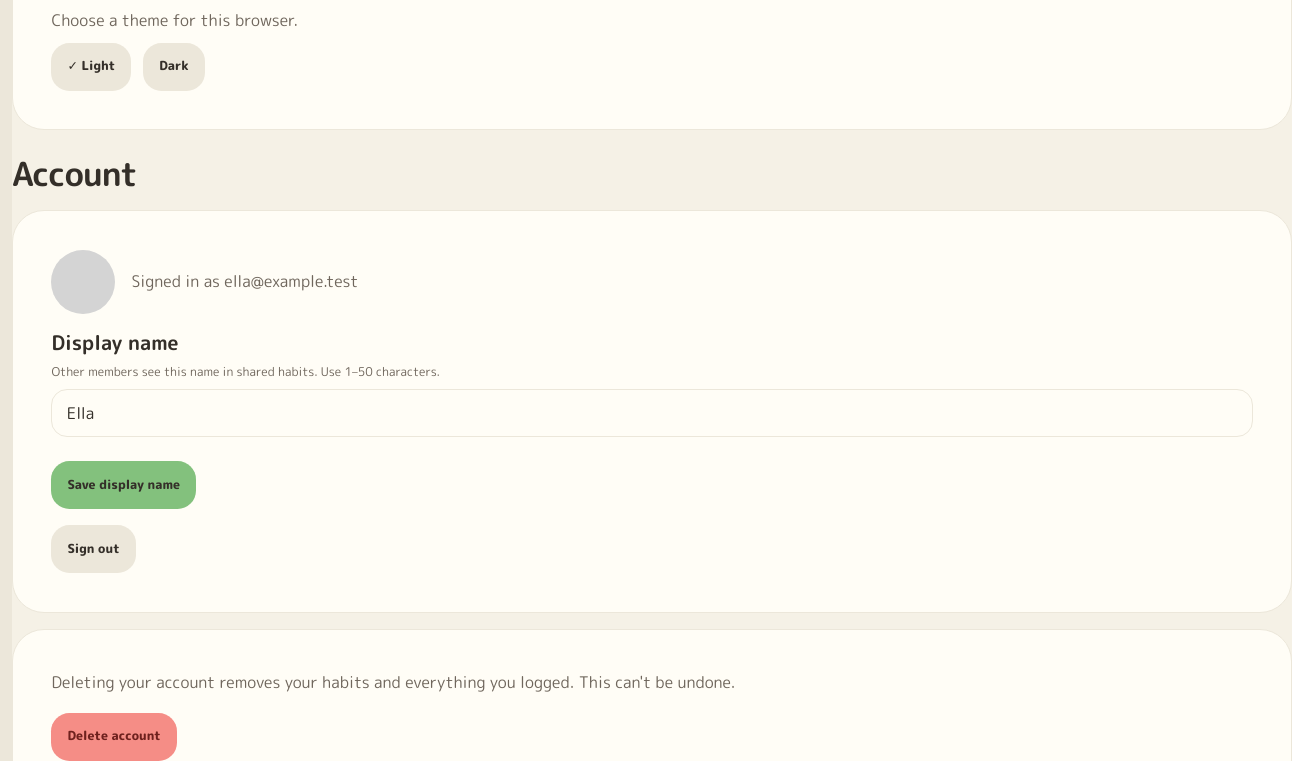
it: Settings display name (#259) › accepts the boundary-length name E
(page scrolled)
Replace the text in the field labelled "Display name" with "E" at (652, 413), box [51,389,1253,437]
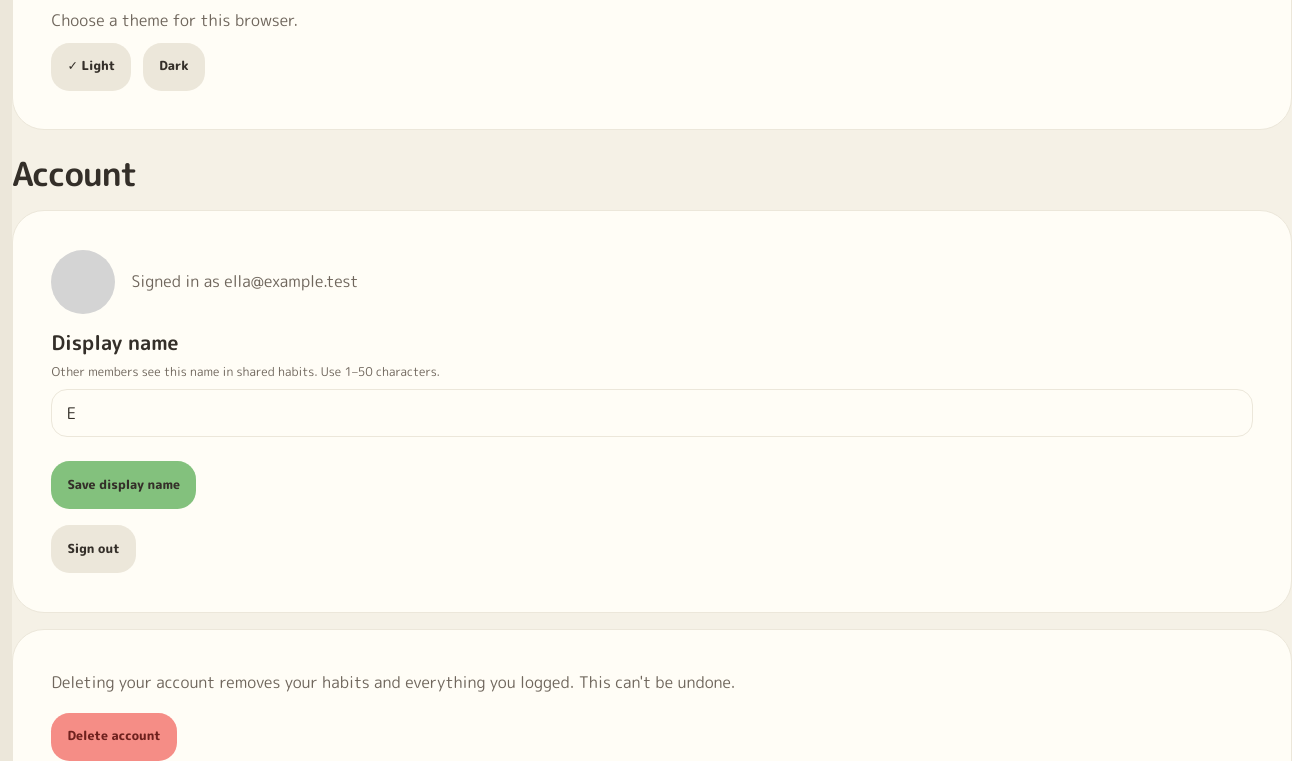
Click the button "Save display name" at (124, 485), box [51,461,196,509]
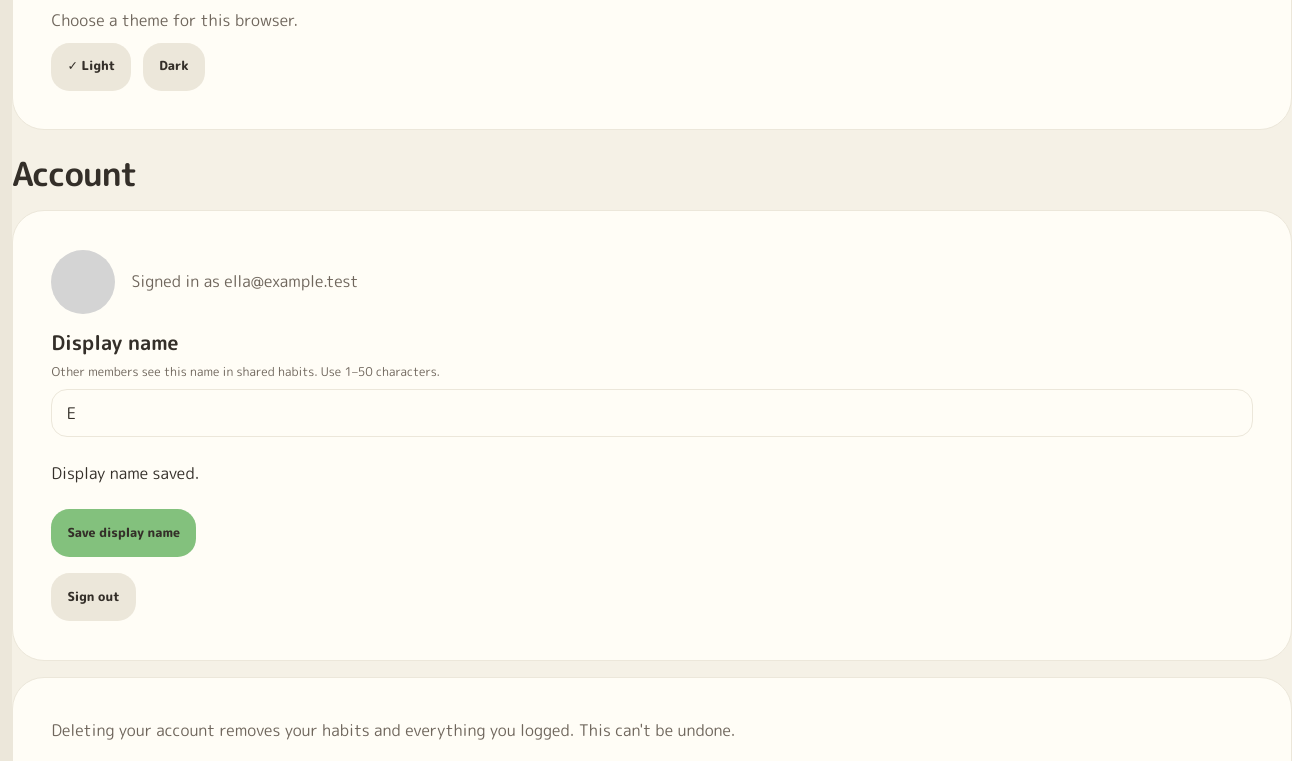
Expected: the text "Display name saved." is shown, [51,462,199,484]
